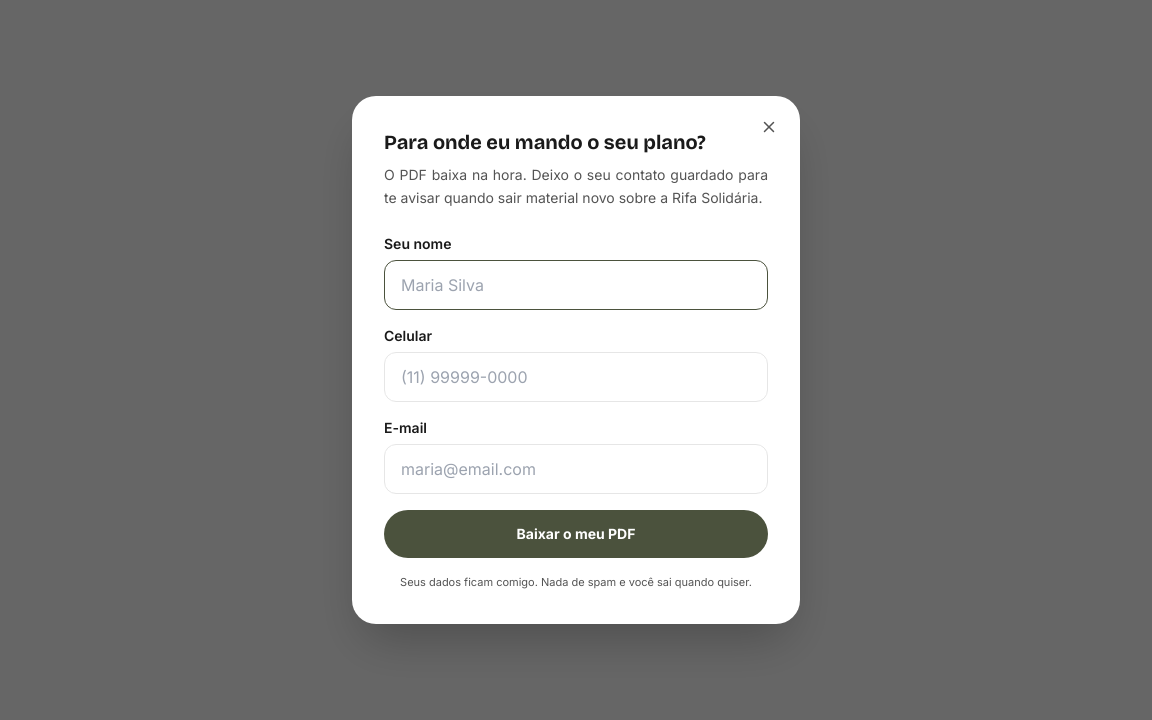
ModalLead › segura o PDF e mostra os três erros quando o formulário está vazio
Click the button "Baixar o meu PDF".
click(576, 534)  # box [384,510,768,558]
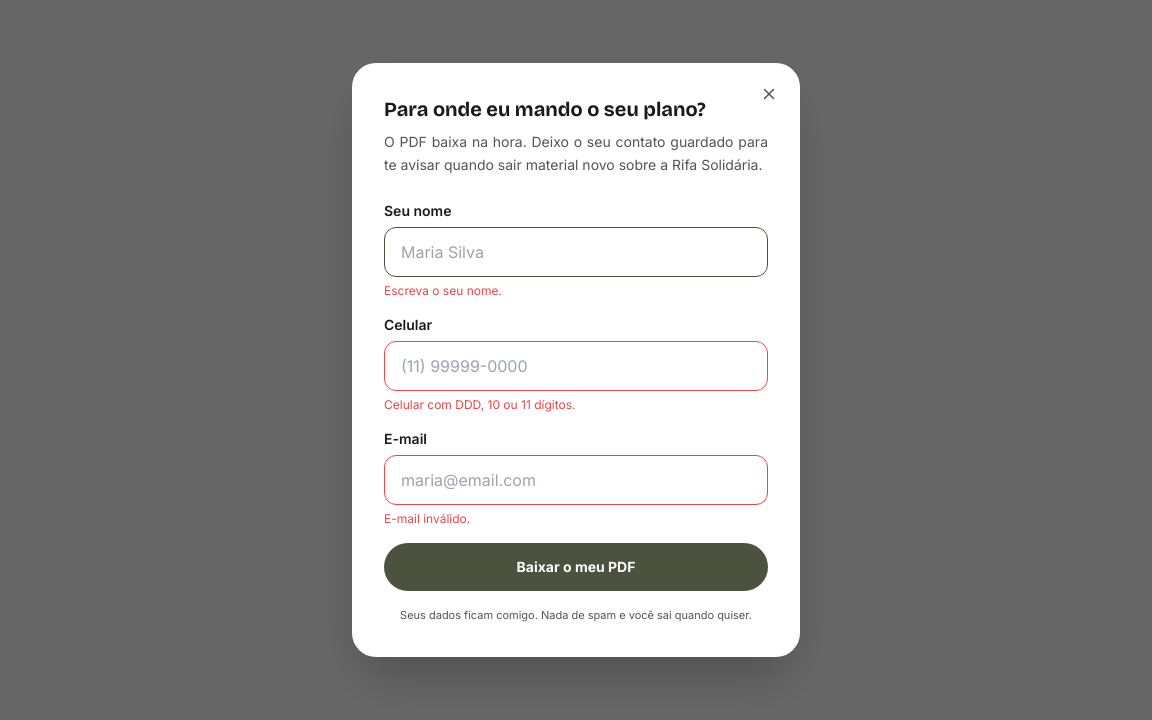
Now the number of messages is 3, box [384,283,502,298]; [384,397,576,412]; [384,511,470,526]
